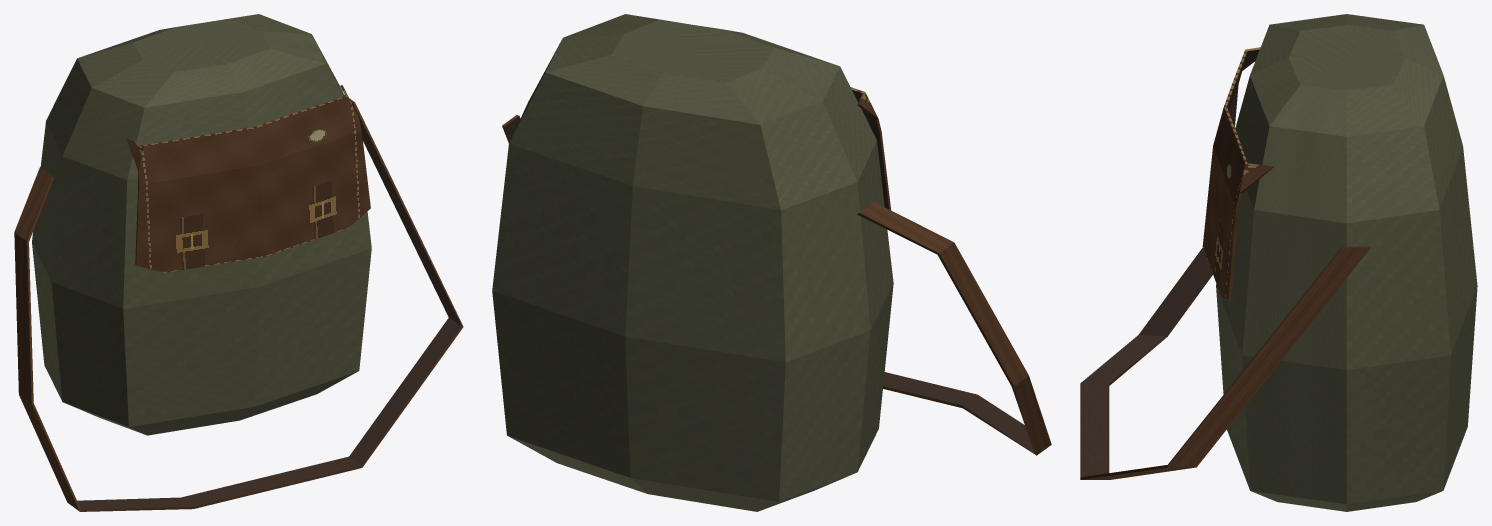
Rendered from bag.glb.
3 renders of one model, left to right at view 1: azimuth 30°, elevation 25°; view 2: azimuth 150°, elevation 25°; view 3: azimuth 270°, elevation 25°, orthographic. The views are drawn at different scales.
Visible parts, largest first — view 1: C_static_CanvasSatchel, Detail_ConformingSatchelFlap, Detail_BagShoulderStrap; view 2: C_static_CanvasSatchel, Detail_BagShoulderStrap, Detail_ConformingSatchelFlap; view 3: C_static_CanvasSatchel, Detail_BagShoulderStrap, Detail_ConformingSatchelFlap.
Part boxes in pixels (x1,y1,x2,y2): C_static_CanvasSatchel: [32, 14, 371, 435]; Detail_ConformingSatchelFlap: [126, 85, 370, 272]; Detail_BagShoulderStrap: [14, 94, 463, 511]; C_static_CanvasSatchel: [492, 14, 893, 511]; Detail_BagShoulderStrap: [502, 115, 1051, 455]; Detail_ConformingSatchelFlap: [850, 87, 891, 210]; C_static_CanvasSatchel: [1216, 14, 1477, 511]; Detail_BagShoulderStrap: [1080, 246, 1370, 479]; Detail_ConformingSatchelFlap: [1202, 47, 1273, 298].
Size of the model in its own units: 0.56 by 0.453 by 0.41.
4 materials, 4 textured.
